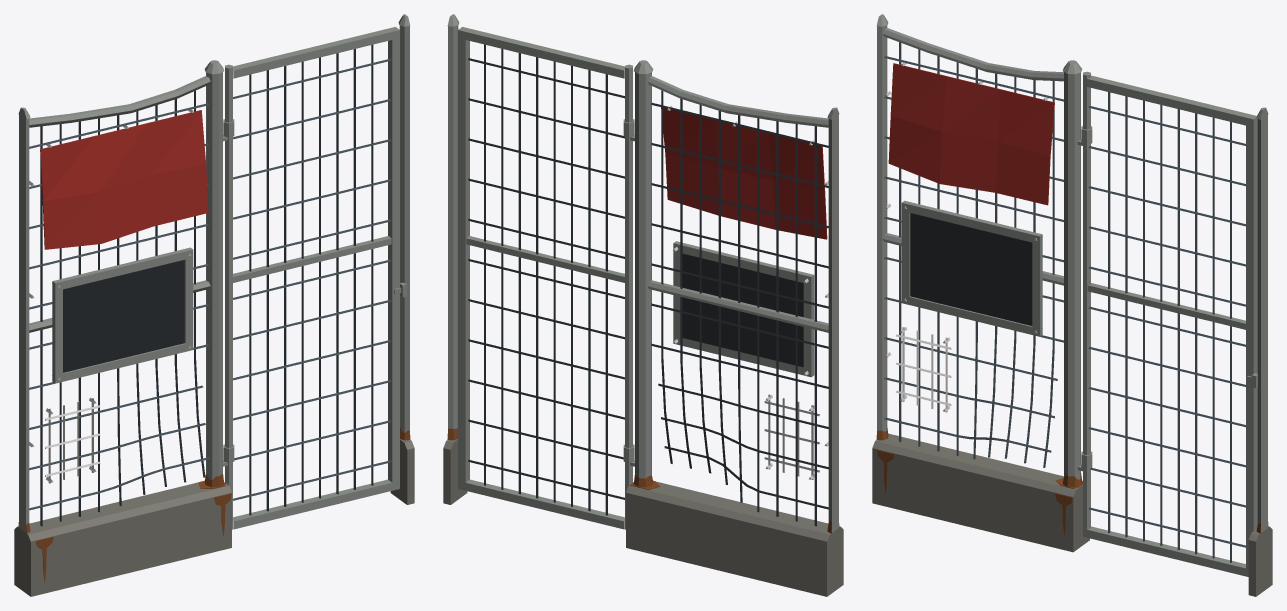
File: mesh-perimeter-fence-run-ffce82.glb
3 renders of one model, left to right at view 1: azimuth 30°, elevation 25°; view 2: azimuth 150°, elevation 25°; view 3: azimuth 330°, elevation 25°, orthographic.
Visible parts, largest first — view 1: fence, gate-leaf-mesh, banner-mesh, fixture-board-mesh; view 2: fence, gate-leaf-mesh, banner-mesh, fixture-board-mesh; view 3: fence, gate-leaf-mesh, banner-mesh, fixture-board-mesh.
Boxes of the visible parts, x1,y1,x2,y2 form: fence: (14,14,414,596); gate-leaf-mesh: (223,27,401,529); banner-mesh: (40,110,208,249); fixture-board-mesh: (52,247,193,383); fence: (443,14,843,596); gate-leaf-mesh: (458,27,634,529); banner-mesh: (661,107,827,239); fixture-board-mesh: (673,241,814,377); fence: (872,14,1272,596); gate-leaf-mesh: (1081,71,1257,576); banner-mesh: (888,63,1054,205); fixture-board-mesh: (901,200,1042,336).
Bounding box in the file's own units: 2 × 2.4 × 0.1663.
